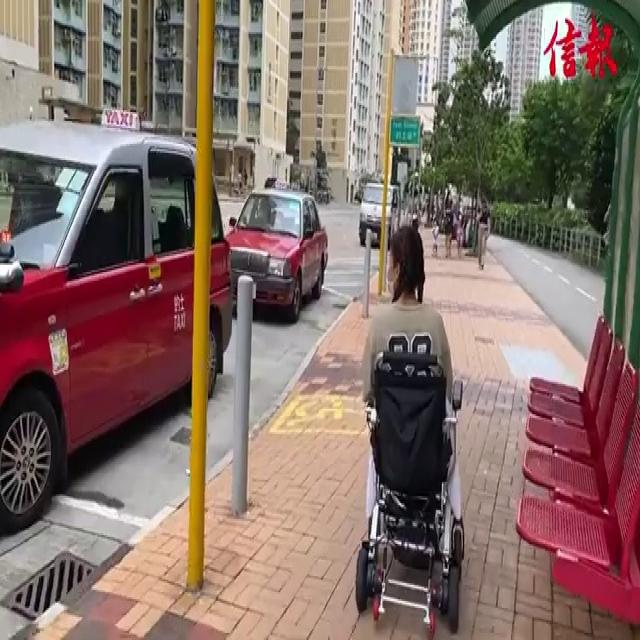wheelchairs: (336, 349, 481, 640)
